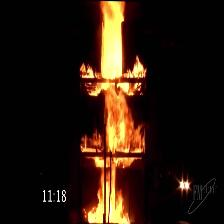fire: (88, 0, 137, 223)
